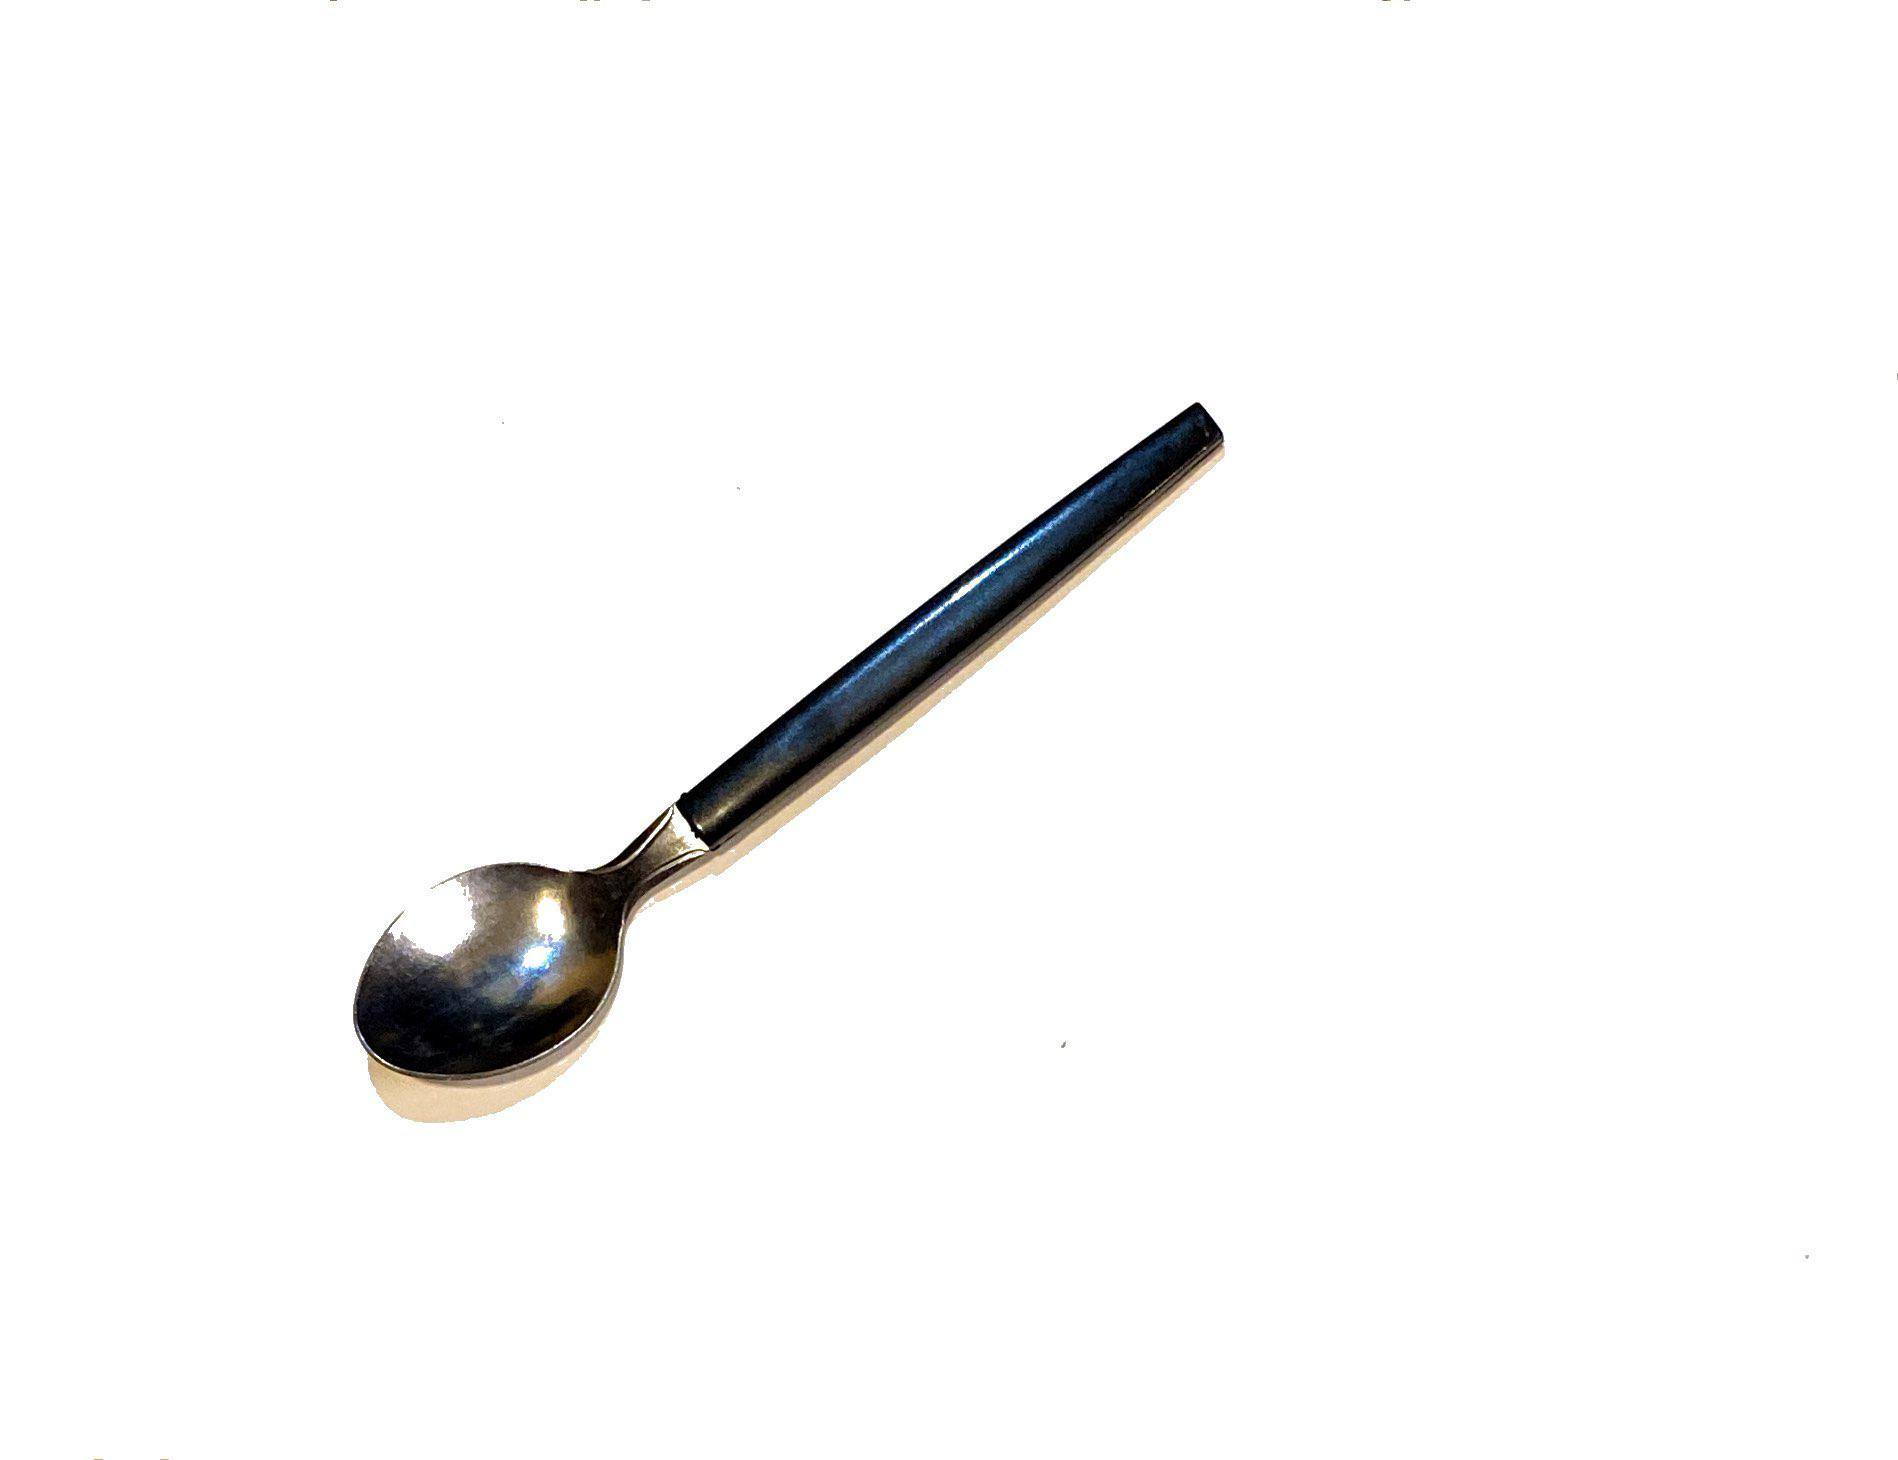Spoon: (276, 291, 1582, 1189)
